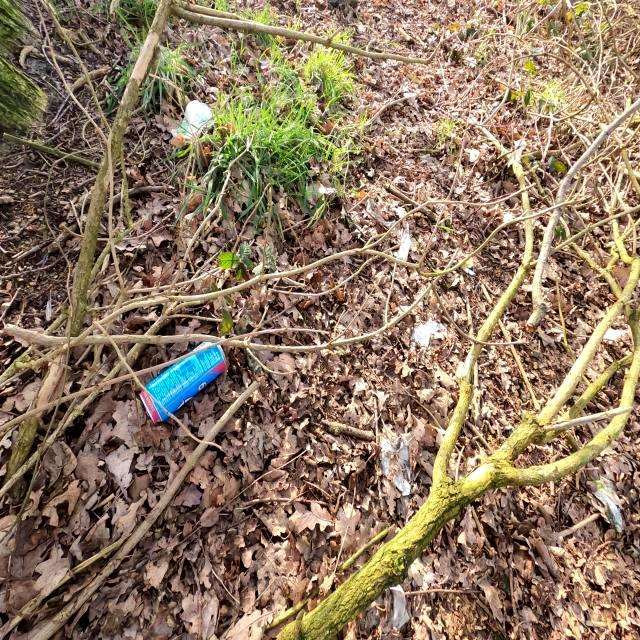Metal: (137, 342, 227, 424)
Paper: (364, 584, 410, 634), (379, 436, 411, 496), (591, 479, 623, 533), (409, 316, 447, 348)
Plastic: (170, 99, 216, 141)
